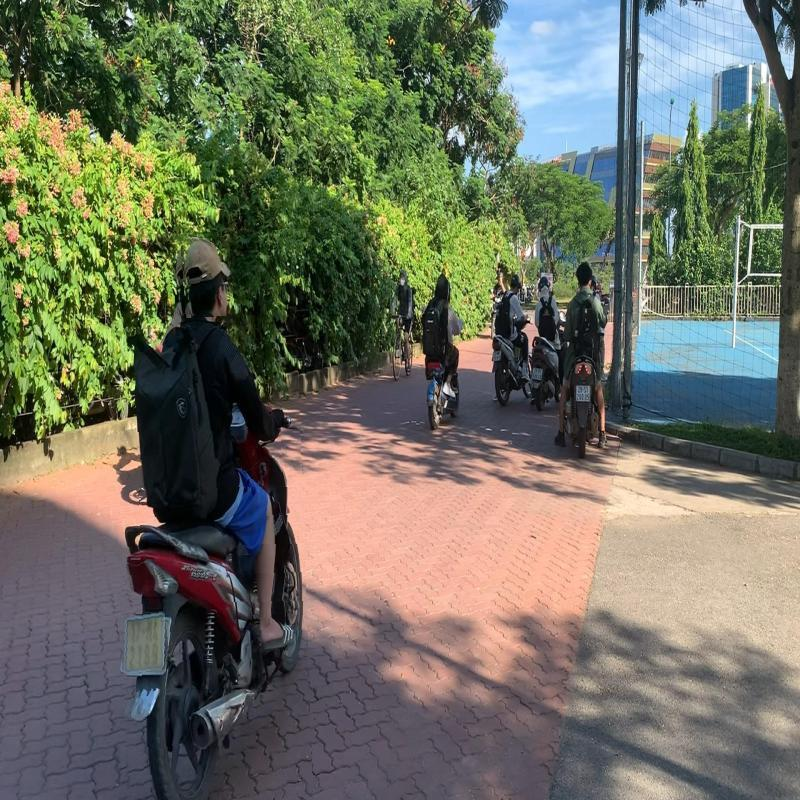licenseplate: (118, 612, 169, 674)
motorcyclist: (113, 230, 308, 800)
nohelmet: (182, 237, 234, 318)
